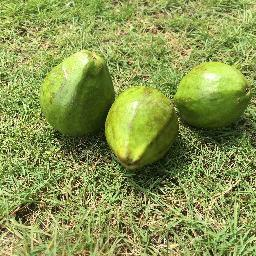Good_guava: (36, 42, 116, 146), (99, 88, 179, 178), (178, 50, 256, 137)
